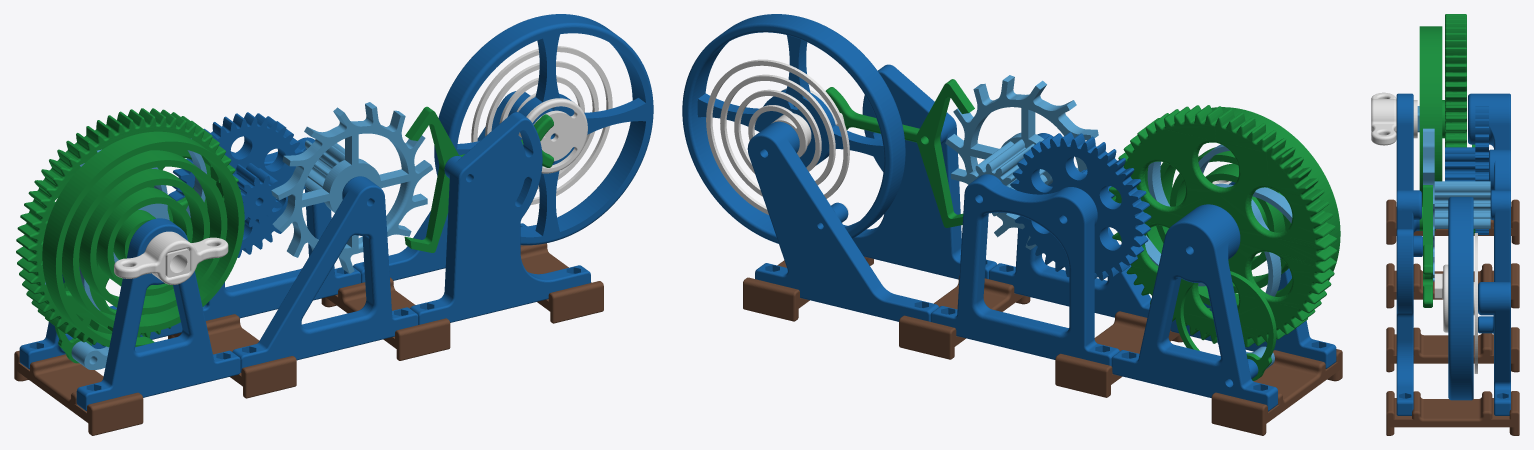
Rendered from escapement.glb.
3 renders of one model, left to right at view 1: azimuth 30°, elevation 25°; view 2: azimuth 150°, elevation 25°; view 3: azimuth 270°, elevation 25°, orthographic. The views are drawn at different scales.
Visible parts, largest first — view 1: MainSpring, BalanceFrameFront, Balance, TrainFrameFront, SpringFrameFront, EscapeWheel, SpringBarrel, GearTrain, TrainFrameBack, Bracket, HairSpring, BracketMidRight (+10 smaller); view 2: SpringBarrel, Balance, TrainFrameBack, SpringFrameBack, BalanceFrameBack, GearTrain, BalanceFrameFront, HairSpring, EscapeWheel, MainSpring, TrainFrameFront, Bracket (+7 smaller); view 3: Balance, BracketLeft, BalanceFrameFront, MainSpring, BalanceFrameBack, SpringBarrel, EscapeWheel, TrainFrameBack, BracketMidLeft, GearTrain, SpringFrameFront, SpringFrameBack (+8 smaller).
Boxes of the visible parts, x1,y1,x2,y2 form: MainSpring: [42, 131, 244, 347]; BalanceFrameFront: [410, 112, 590, 324]; Balance: [434, 14, 653, 245]; TrainFrameFront: [232, 176, 418, 372]; SpringFrameFront: [76, 218, 240, 411]; EscapeWheel: [271, 102, 432, 273]; SpringBarrel: [16, 108, 240, 346]; GearTrain: [168, 112, 305, 257]; TrainFrameBack: [202, 137, 360, 320]; Bracket: [14, 350, 143, 435]; HairSpring: [471, 46, 612, 205]; BracketMidRight: [168, 314, 296, 398]; SpringBarrel: [1109, 105, 1337, 347]; Balance: [682, 14, 905, 243]; TrainFrameBack: [930, 174, 1119, 365]; SpringFrameBack: [1111, 204, 1277, 411]; BalanceFrameBack: [747, 121, 938, 321]; GearTrain: [1010, 132, 1151, 280]; BalanceFrameFront: [843, 64, 997, 279]; HairSpring: [706, 59, 849, 214]; EscapeWheel: [945, 75, 1098, 249]; MainSpring: [1145, 107, 1340, 346]; TrainFrameFront: [989, 133, 1151, 317]; Bracket: [1211, 349, 1342, 435]; Balance: [1448, 197, 1473, 400]; BracketLeft: [1386, 391, 1519, 435]; BalanceFrameFront: [1396, 229, 1422, 415]; MainSpring: [1419, 26, 1444, 230]; BalanceFrameBack: [1478, 282, 1510, 415]; SpringBarrel: [1445, 14, 1466, 147]; EscapeWheel: [1423, 128, 1490, 281]; TrainFrameBack: [1489, 149, 1510, 282]; BracketMidLeft: [1386, 327, 1519, 372]; GearTrain: [1445, 106, 1488, 234]; SpringFrameFront: [1396, 93, 1419, 232]; SpringFrameBack: [1468, 93, 1510, 149].
Size of the model in its own units: 0.3644 by 0.151 by 0.0876.
